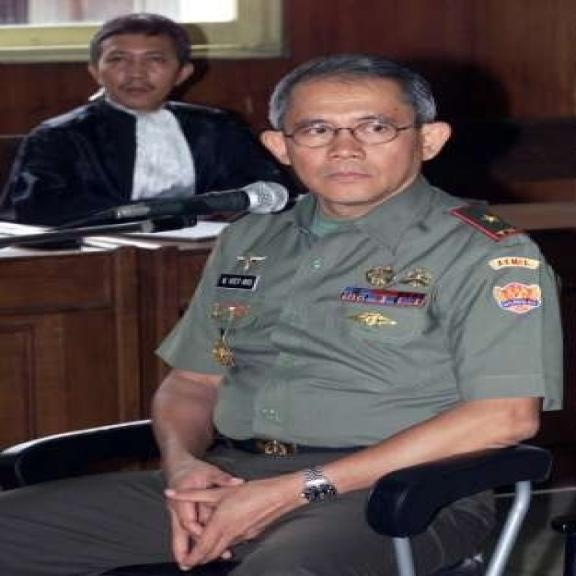face: (261, 62, 451, 210), (75, 14, 199, 109)
